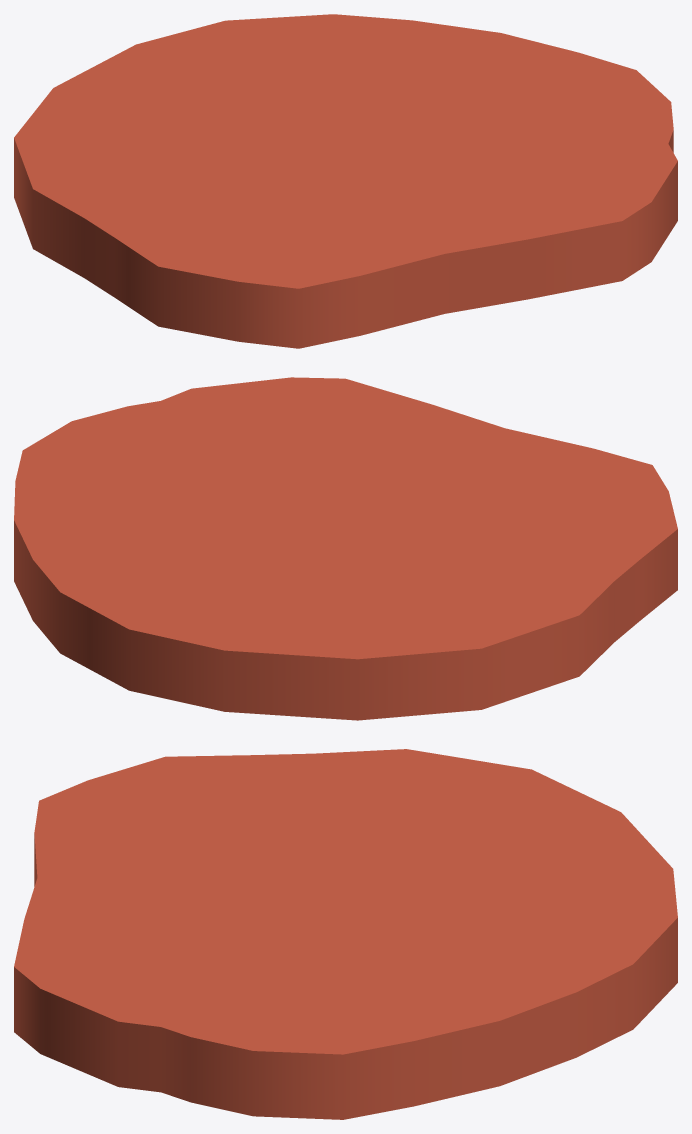
File: coaster.fbx
3 renders of one model, top to bottom at view 1: azimuth 30°, elevation 25°; view 2: azimuth 150°, elevation 25°; view 3: azimuth 270°, elevation 25°, orthographic. The views are drawn at different scales.
Parts seen in each view (by area): view 1: Cube.015; view 2: Cube.015; view 3: Cube.015.
Part boxes in pixels (x1,y1,x2,y2): Cube.015: [14, 14, 677, 348]; Cube.015: [14, 377, 677, 720]; Cube.015: [14, 749, 677, 1119].
Bounding box in the file's own units: 105 × 10.45 × 96.17.
